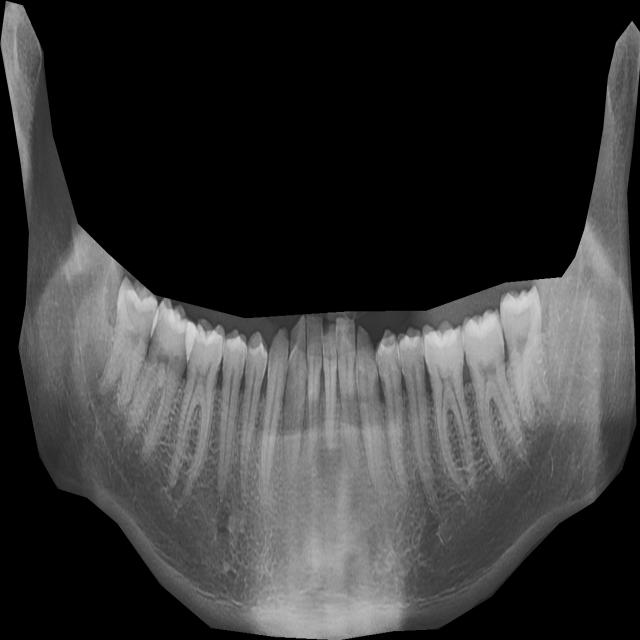mandibula: (0, 1, 640, 640)
